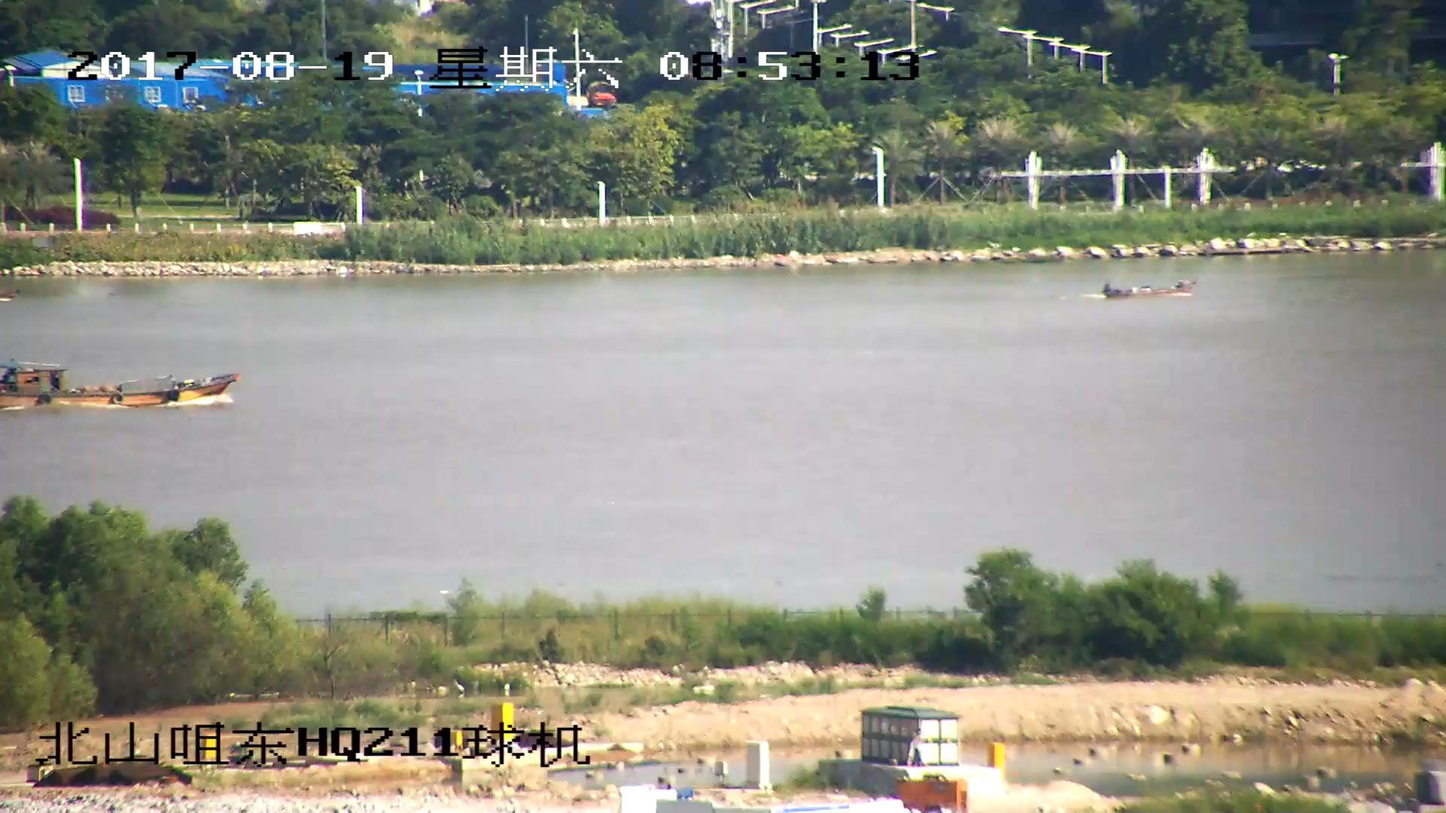fishing boat: (0, 360, 233, 409), (1102, 279, 1193, 299)
